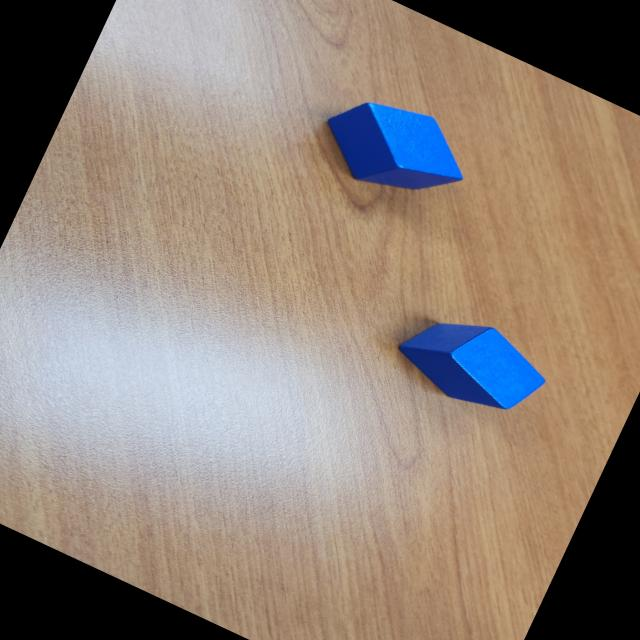blue: (308, 76, 482, 220), (386, 292, 558, 432)
